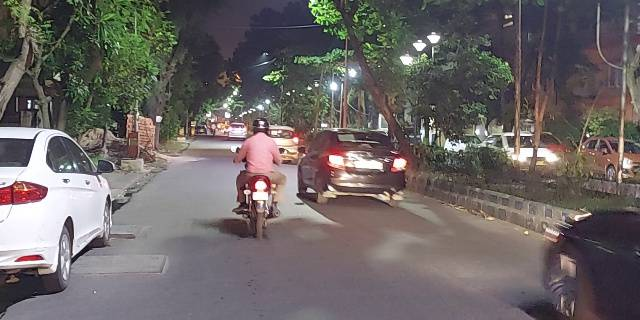Car: (296, 127, 406, 204)
Motorbike: (234, 117, 284, 238)
